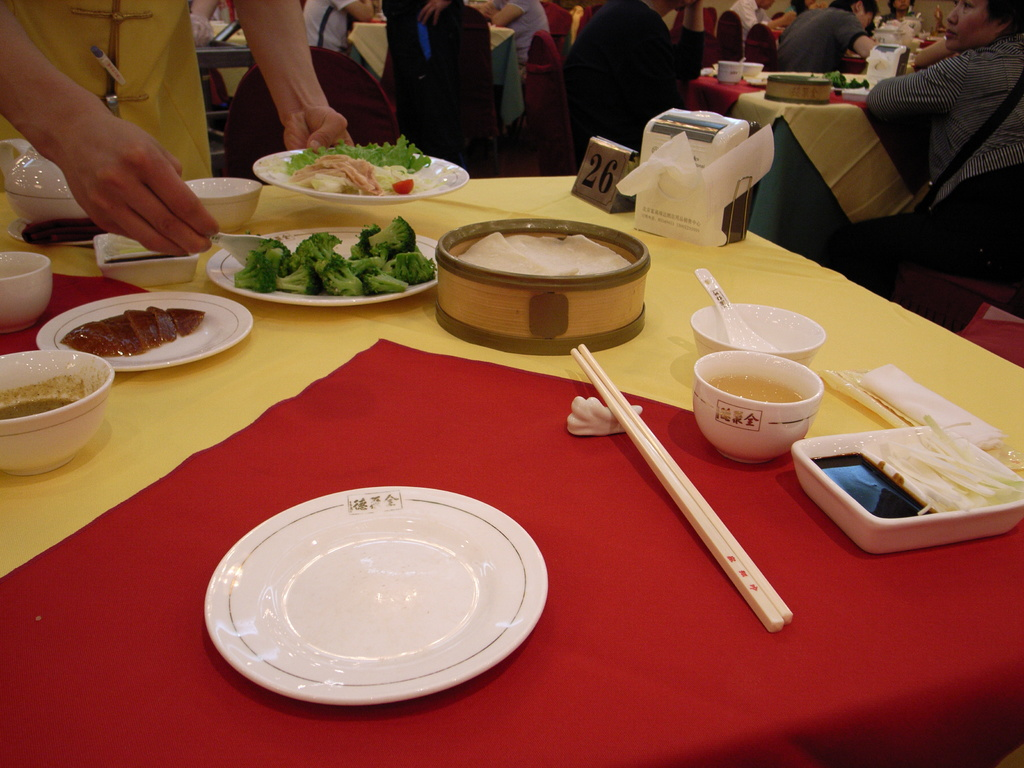plate: (215, 491, 538, 695)
